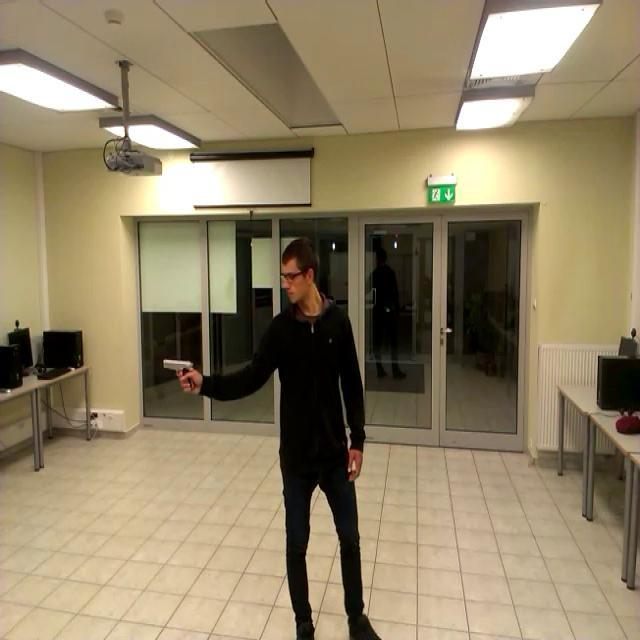Gun: (158, 351, 206, 399)
